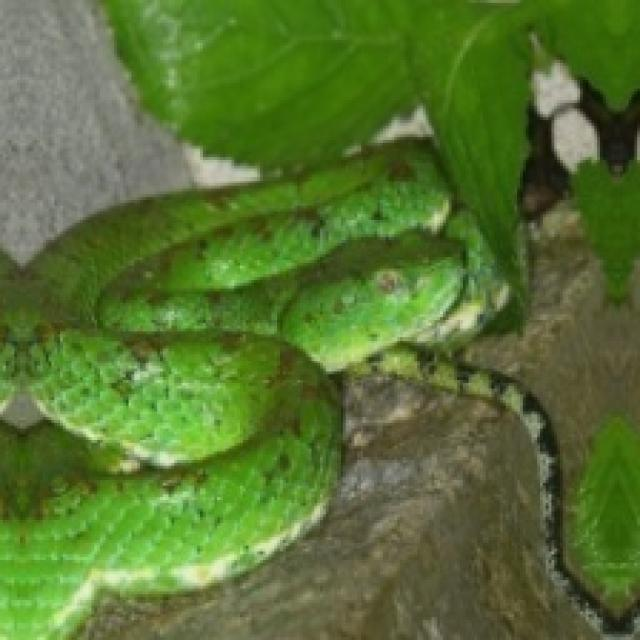philippine pitviper: (0, 140, 491, 637), (350, 345, 640, 640)
